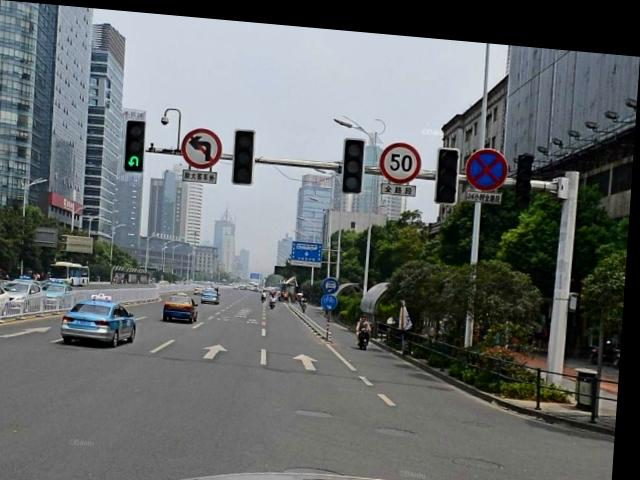not_turn_left: (181, 123, 225, 166)
